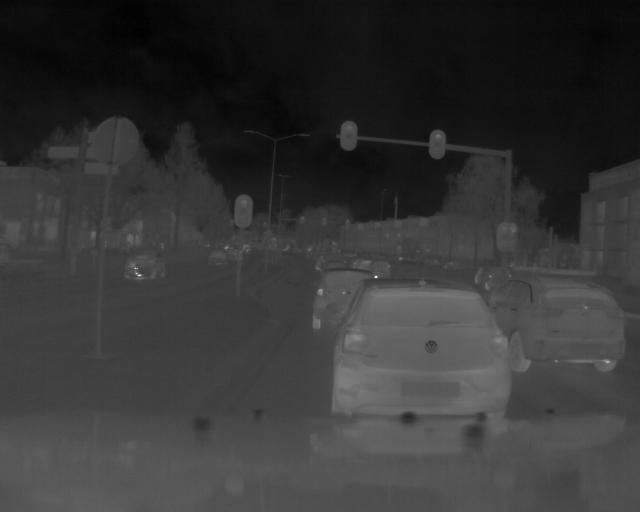car: (333, 284, 508, 414), (517, 275, 630, 381), (123, 248, 174, 285), (206, 250, 229, 268)
